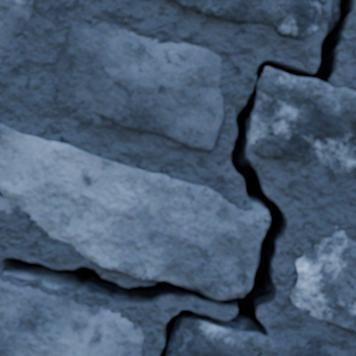brick: (0, 124, 266, 298), (54, 23, 222, 149), (251, 68, 355, 181), (0, 280, 142, 355), (290, 231, 355, 331), (172, 0, 325, 38), (172, 322, 332, 355), (0, 0, 33, 53)
crack: (0, 0, 355, 355), (0, 189, 3, 197)
